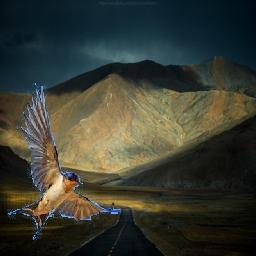Swallow: (7, 84, 121, 241)
